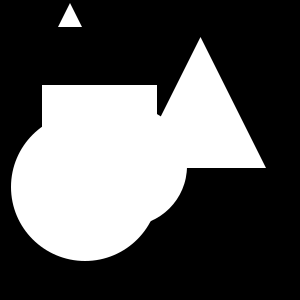circle: (42, 85, 157, 200)
rectangle: (11, 113, 159, 261), (67, 106, 187, 226)
triangle: (135, 37, 266, 168), (58, 3, 82, 27)
